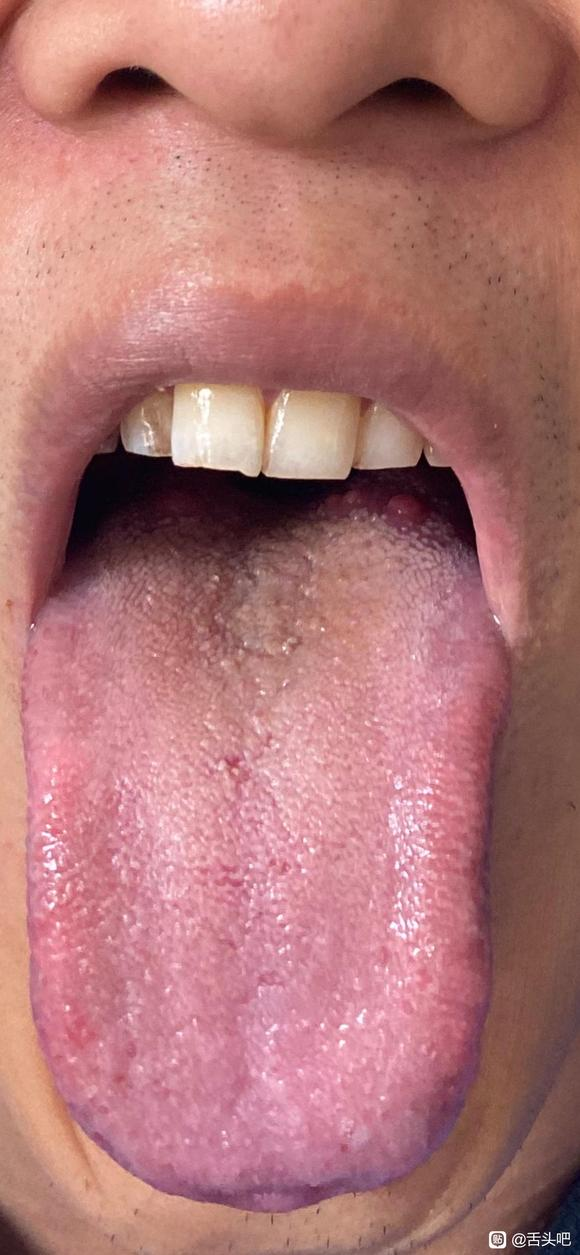hongshe: (19, 491, 512, 1211)
huangtaishe: (20, 491, 513, 1211)
